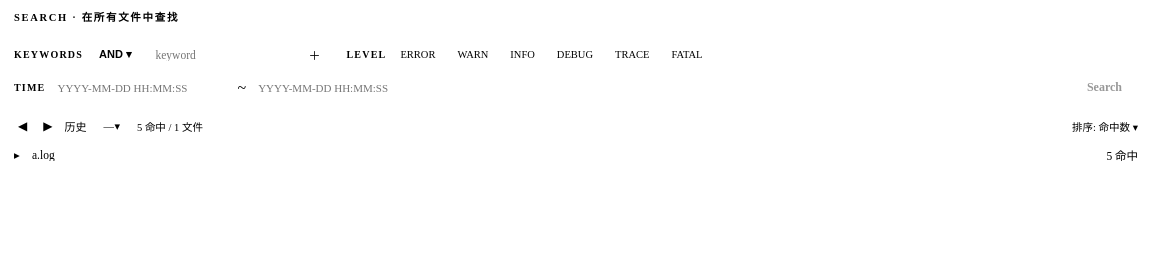
Test: SearchPanel results › renders ALL matching lines (not just the first) when a row is expanded (Issue 1)
The image size is (1152, 273).
Click the button "▸ a.log 5 命中".
click(17, 155)  # box top-left (14, 149), bottom-right (1138, 162)
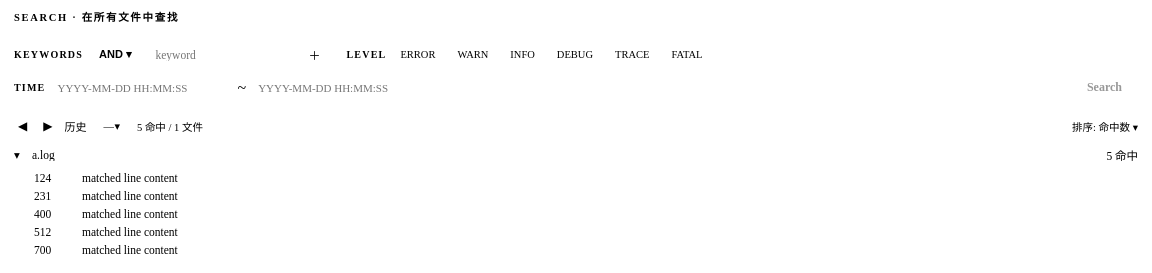
Now the text "124" is shown, box top-left (34, 172), bottom-right (51, 184)
Now the text "231" is shown, box top-left (34, 190), bottom-right (51, 202)
Now the text "400" is shown, box top-left (34, 208), bottom-right (51, 220)
